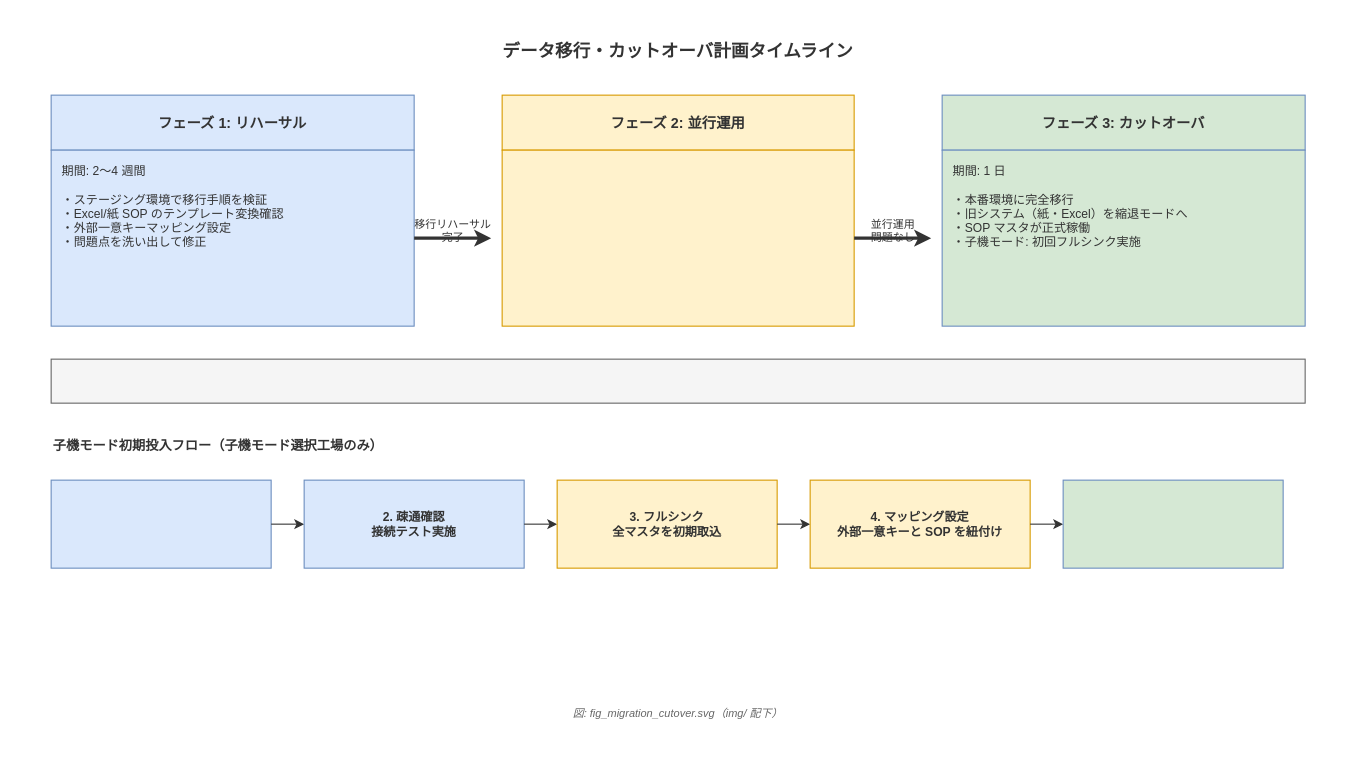
Some shapes in this 1356 by 784 pixel diagram are drawn without their labels. Here are the shapes that lost their labels. From the top down, the centre of each, then its label:
point 677,237: 期間: 1〜2 週間 ・本番 + ステージングを並行稼働 ・記録の差分を比較・確認 ・現場作業員への教育実施 ・紙フォールバック準備
point 677,380: 紙フォールバック継続中（BCP 縮退モードとして正式維持 — カットオーバ後も廃止しない）
point 160,523: 1. 接続設定 API 認証情報を設定
point 1172,523: 5. 差分同期移行 インクリメンタルシンク開始
